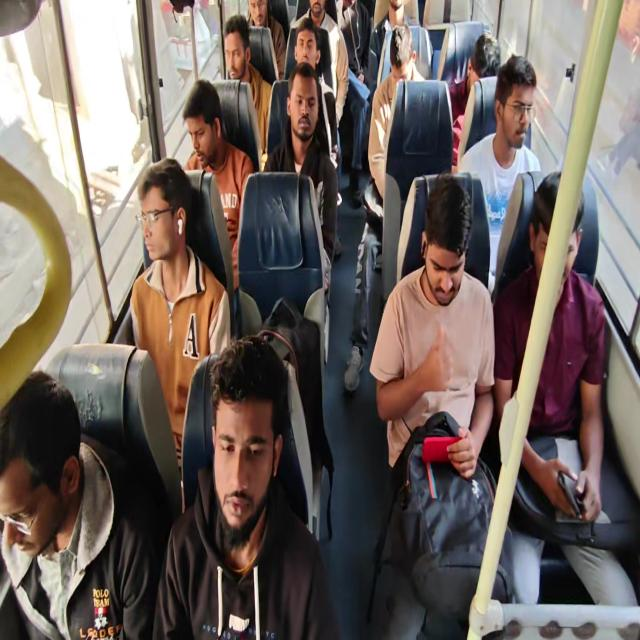person: (209, 328, 289, 545), (2, 388, 80, 566), (418, 175, 481, 314), (527, 182, 590, 295), (136, 152, 192, 264), (488, 56, 546, 150), (177, 75, 226, 176), (284, 64, 328, 140), (388, 12, 424, 80), (221, 18, 253, 77), (468, 29, 502, 76), (294, 22, 324, 74), (242, 0, 276, 34), (301, 0, 330, 21)
